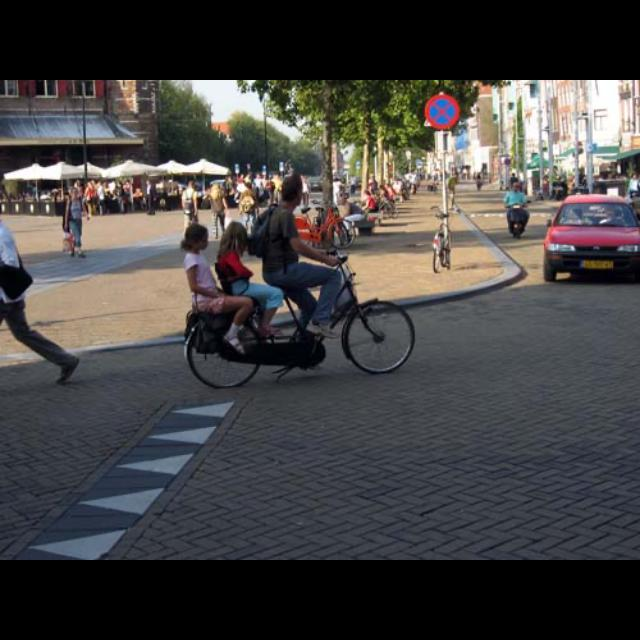Without Helmet: (274, 170, 308, 208)
